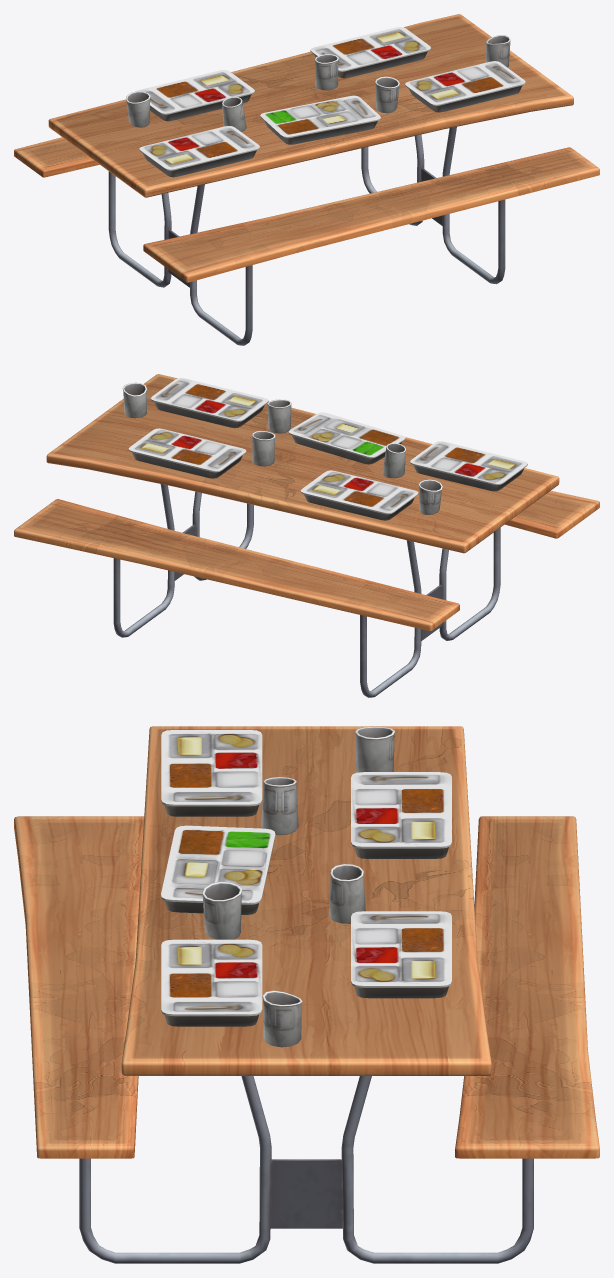
Rendered from Table02_2.FBX.
The picture shows the model from 3 angles, top to bottom: view 1: azimuth 30°, elevation 25°; view 2: azimuth 150°, elevation 25°; view 3: azimuth 270°, elevation 25°; orthographic projection. The views are drawn at different scales.
Visible parts, largest first — view 1: Table02_2; view 2: Table02_2; view 3: Table02_2.
Part boxes in pixels (left/top/right/bottom): Table02_2: left=14, top=14, right=599, bottom=345; Table02_2: left=14, top=374, right=599, bottom=697; Table02_2: left=14, top=726, right=599, bottom=1263.
Size of what is drawn, in the model's own units: 2 by 0.8961 by 1.49.
